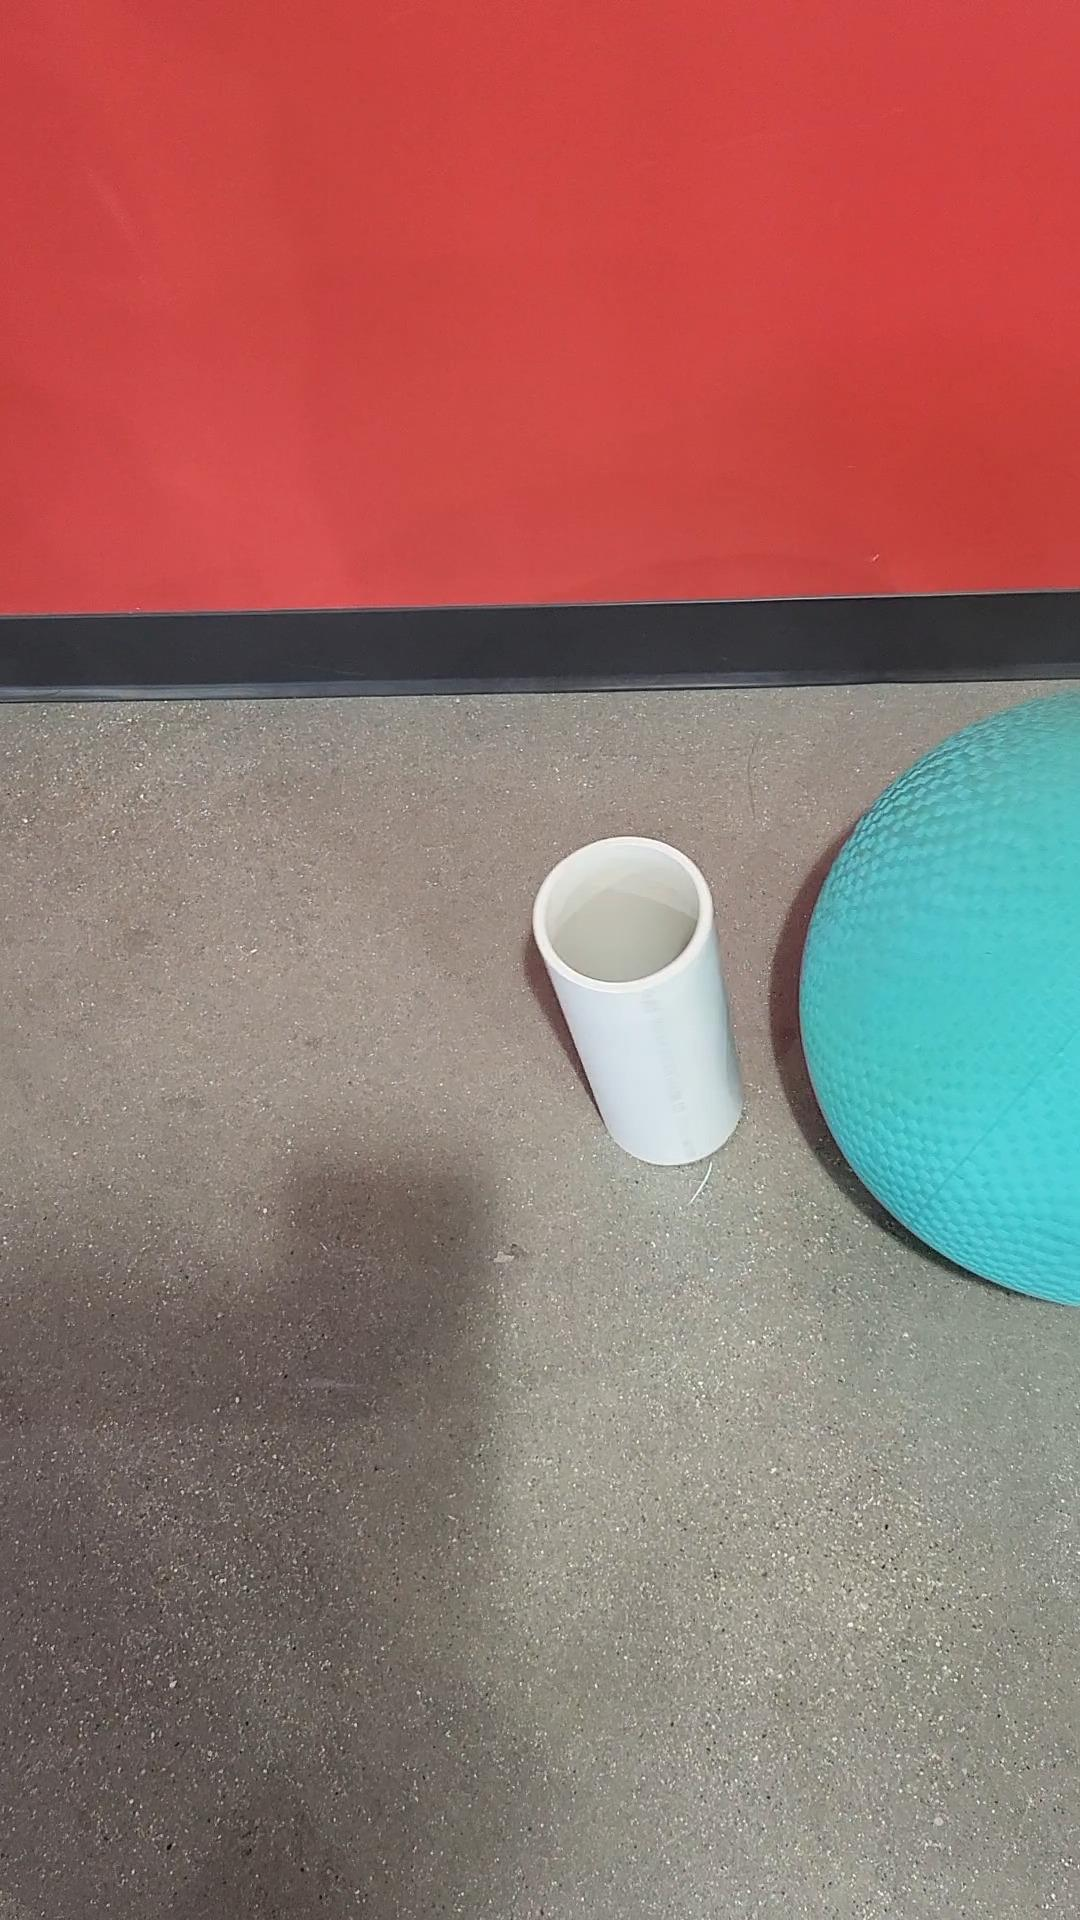algae: (798, 691, 1080, 1307)
coral: (535, 832, 750, 1164)
